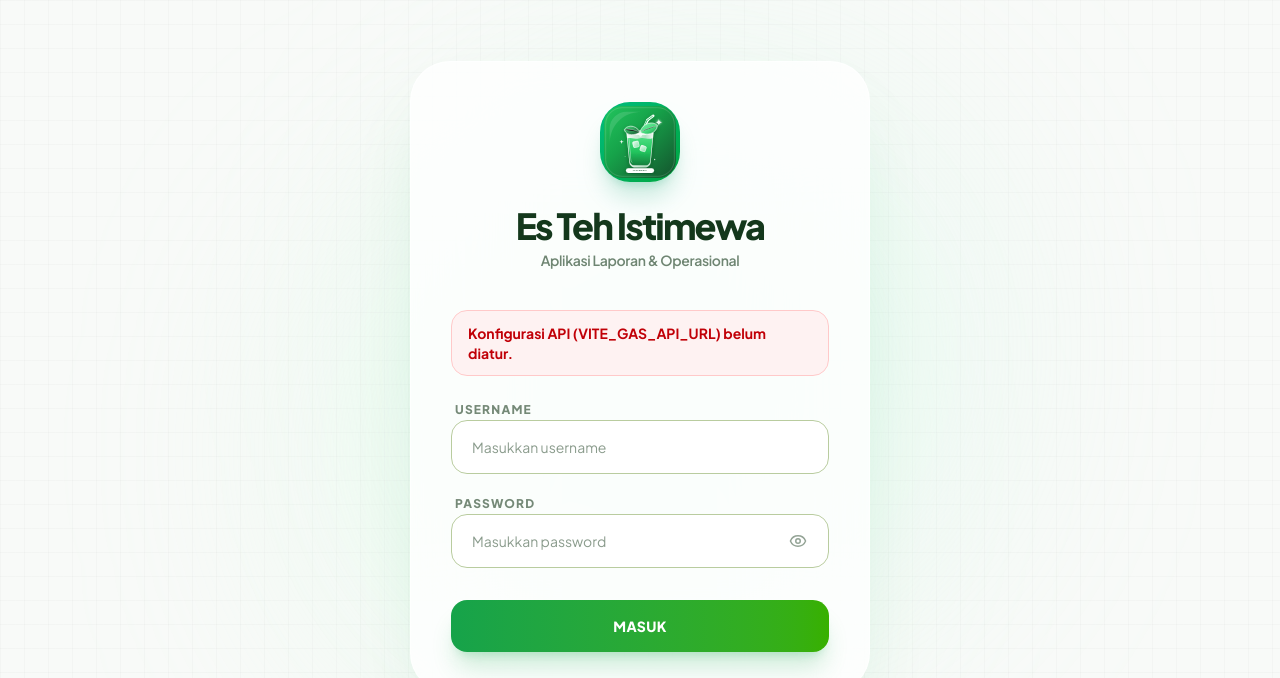
App smoke › calculates and displays Total Penjualan as a non-dash numeric value from report input
Type "joko" into the field labelled "Username".
click(640, 446); type("joko")  # box [451,420,829,474]
Type "joko" into the password field labelled "Password".
click(640, 540); type("joko")  # box [451,514,829,568]
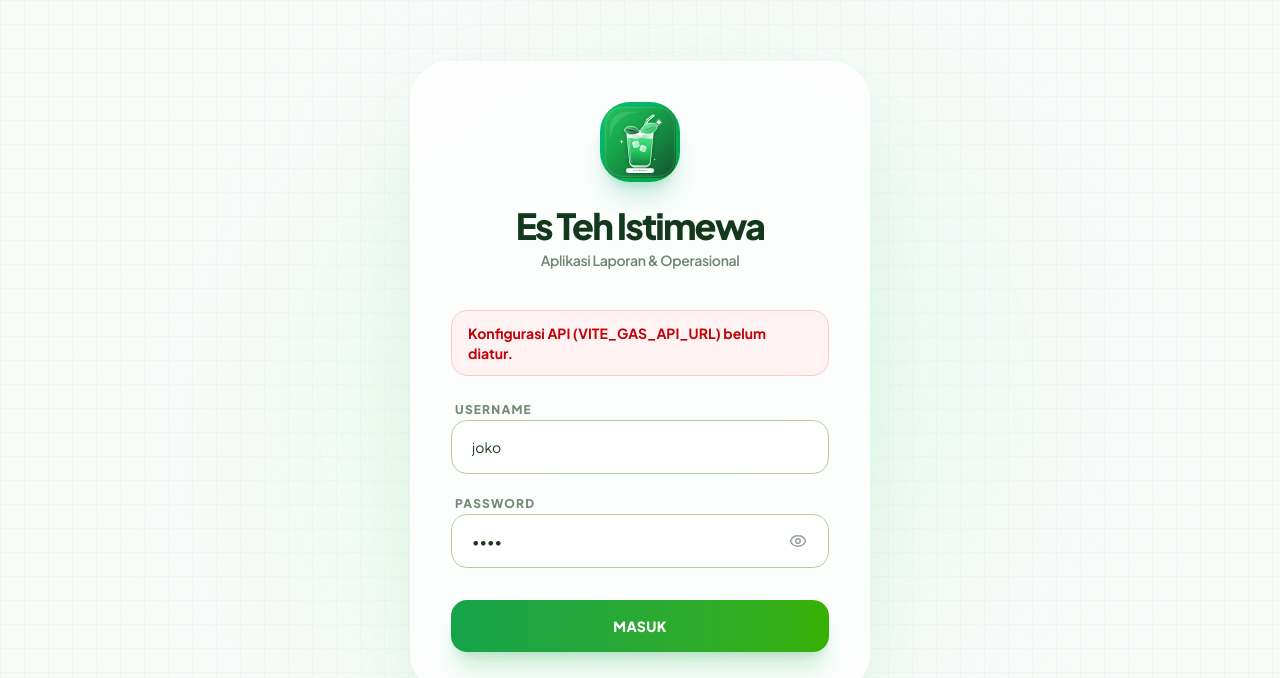
Click the button "MASUK".
click(640, 626)  # box [451,600,829,652]
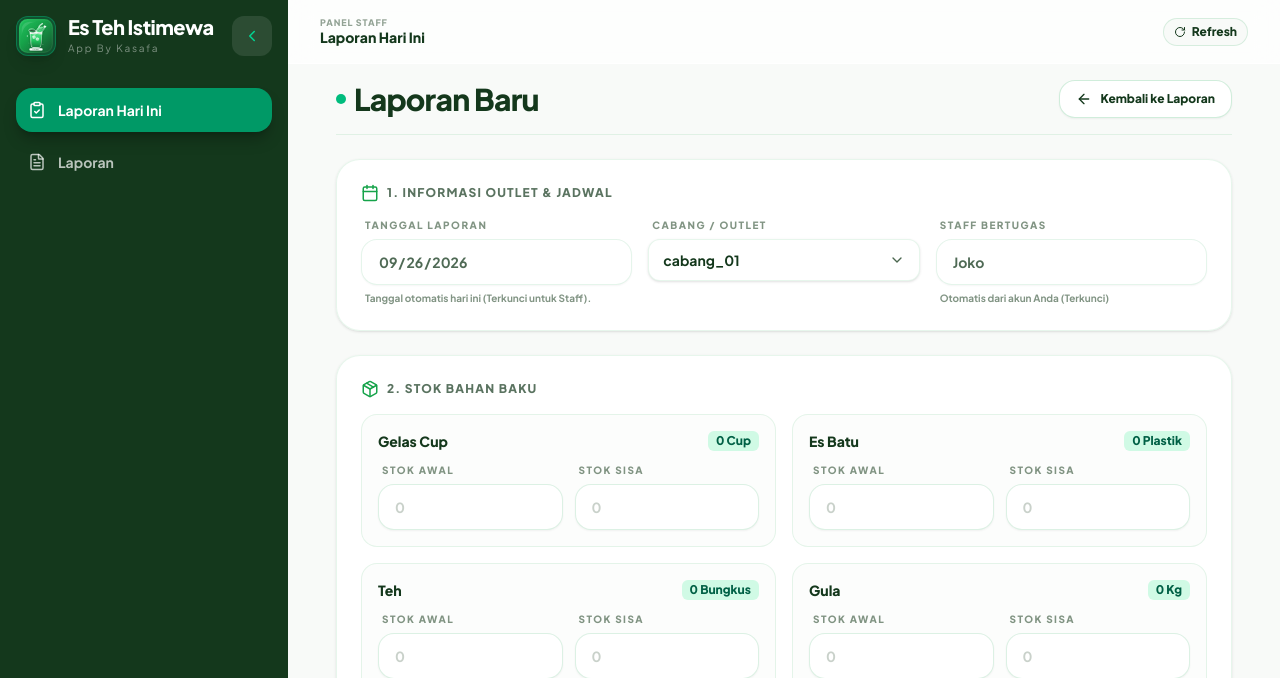
Check: the heading "Laporan Baru" is shown, box [354,81,539,117]
Check: the number field named "Stok Awal Gelas Cup" is shown
Type "100" into the number field named "Stok Awal Gelas Cup".
click(470, 507); type("100")  # box [378,484,562,530]
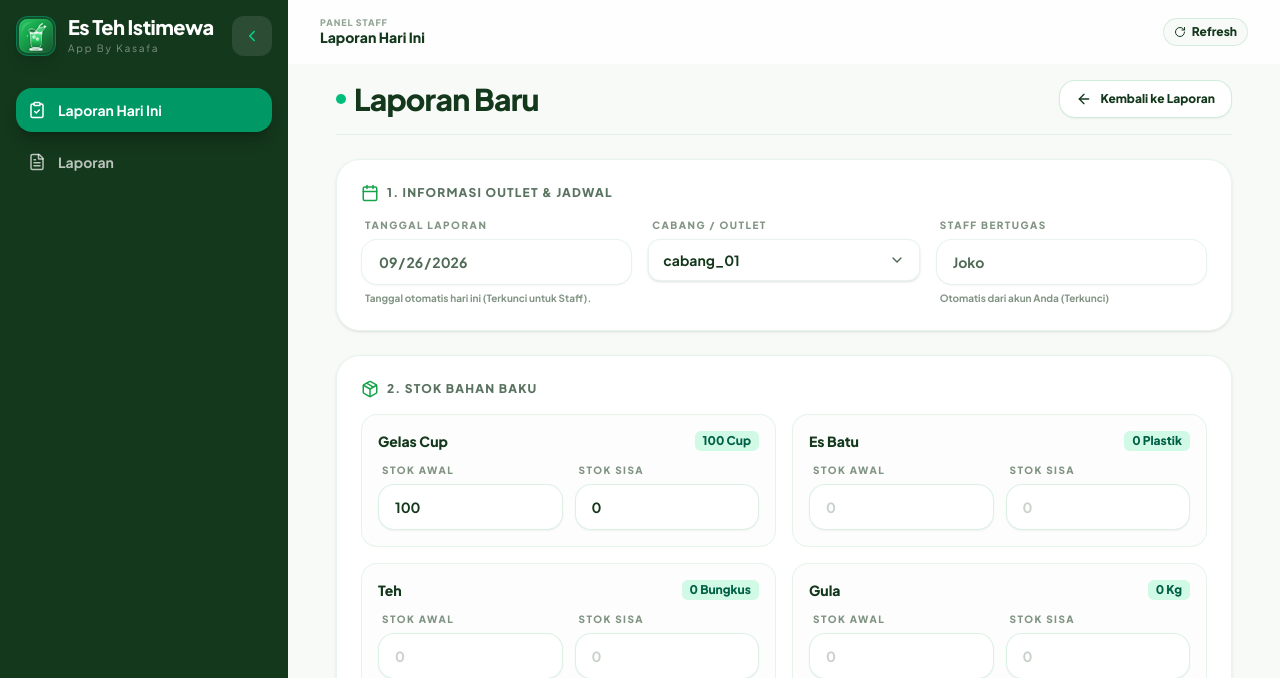
Type "50" into the number field named "Stok Sisa Gelas Cup".
click(667, 507); type("50")  # box [574,484,759,530]
(page scrolled)
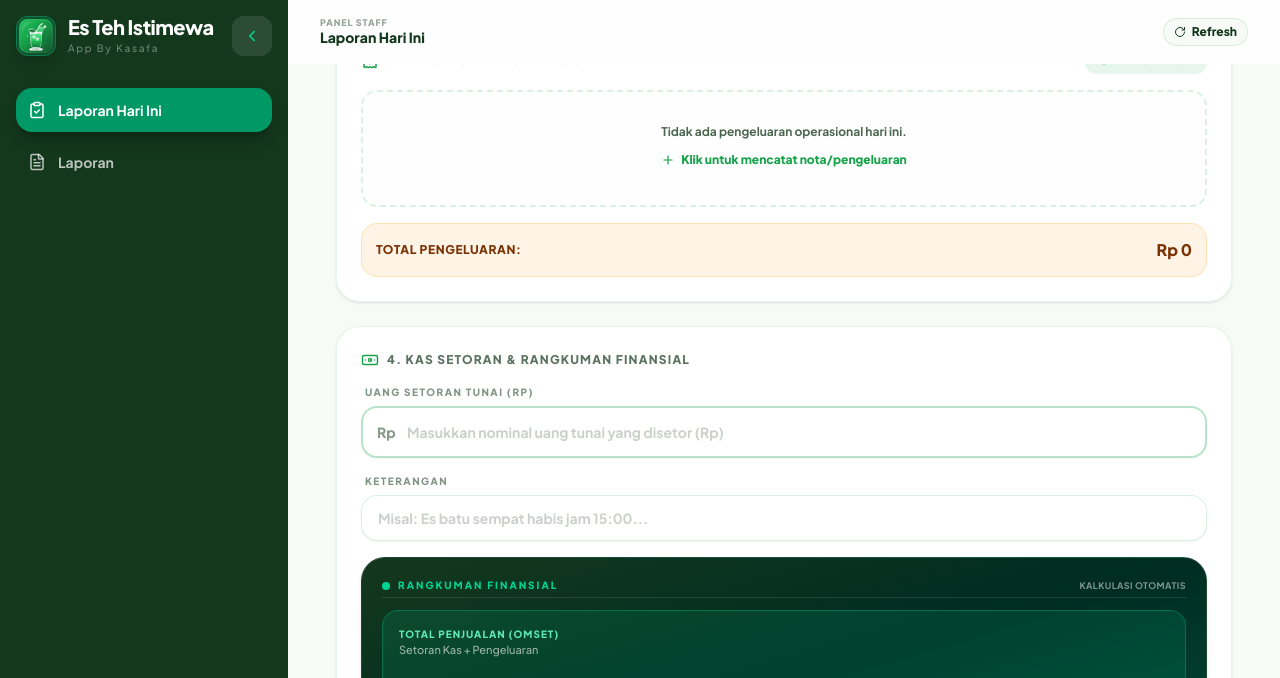
Type "164000" into the field labelled "Uang Setoran Tunai (Rp)".
click(784, 432); type("164000")  # box [361,406,1207,458]
(page scrolled)
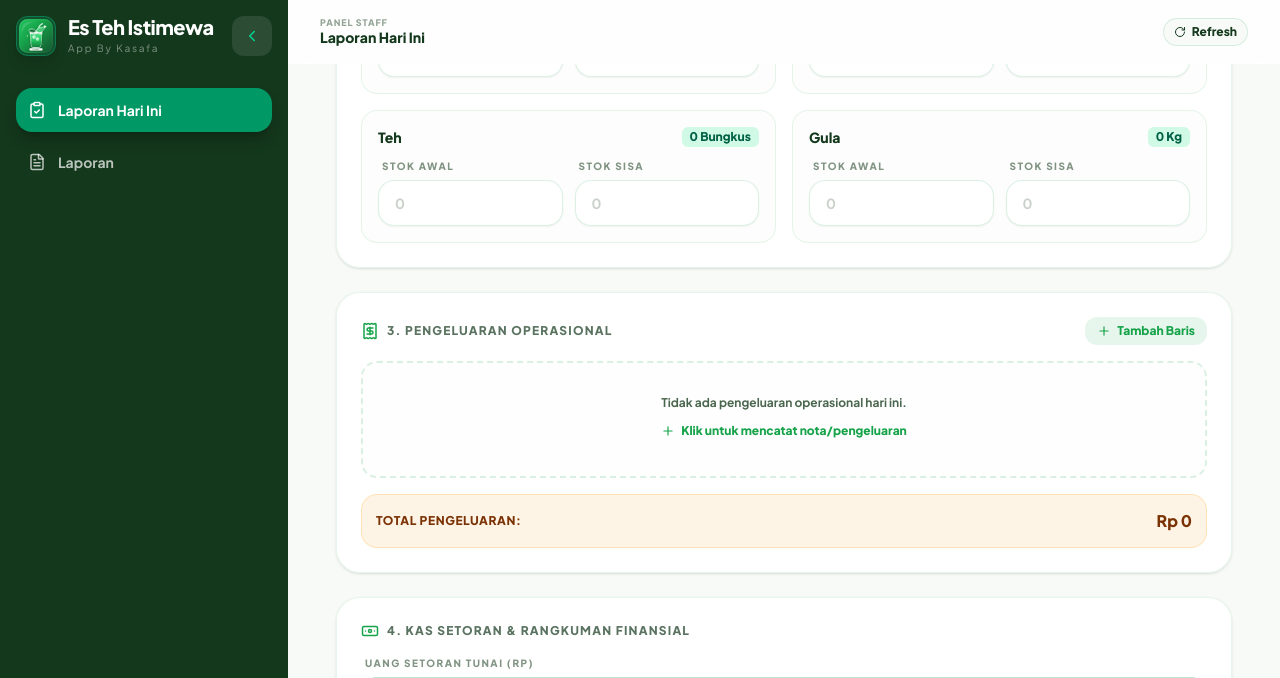
Submit the form
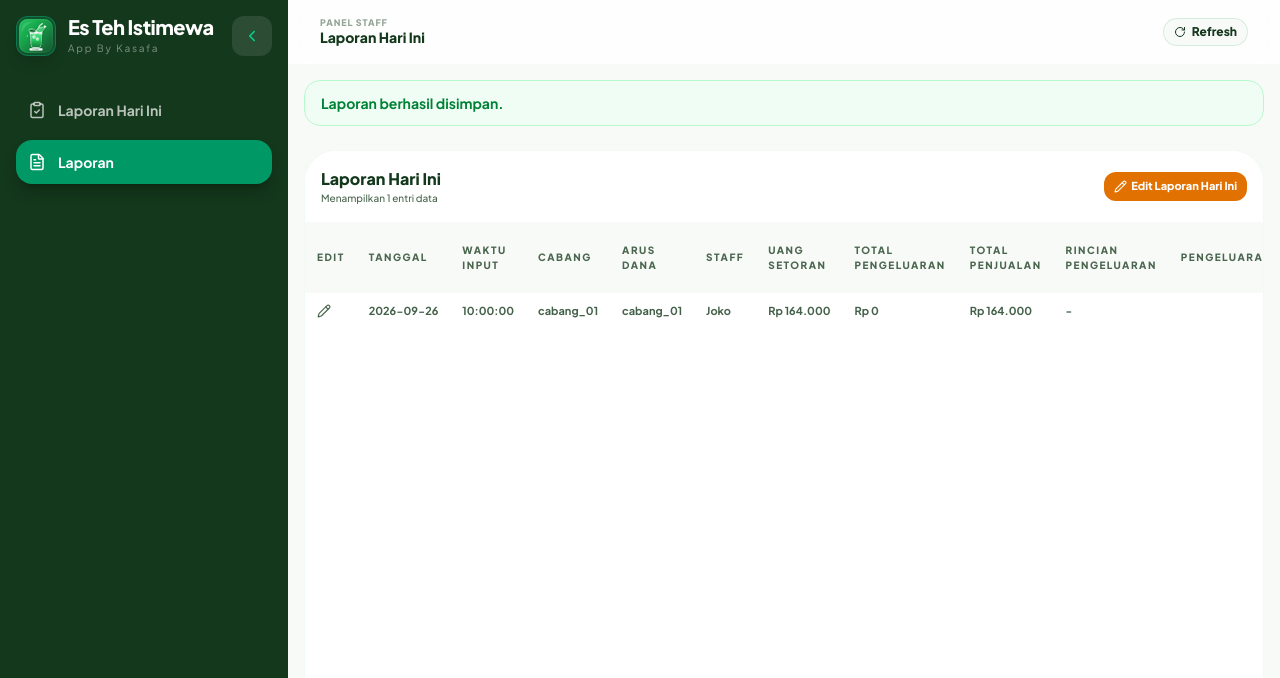
Check: the text "Menampilkan 1 entri data" is shown, box [321,191,441,206]
